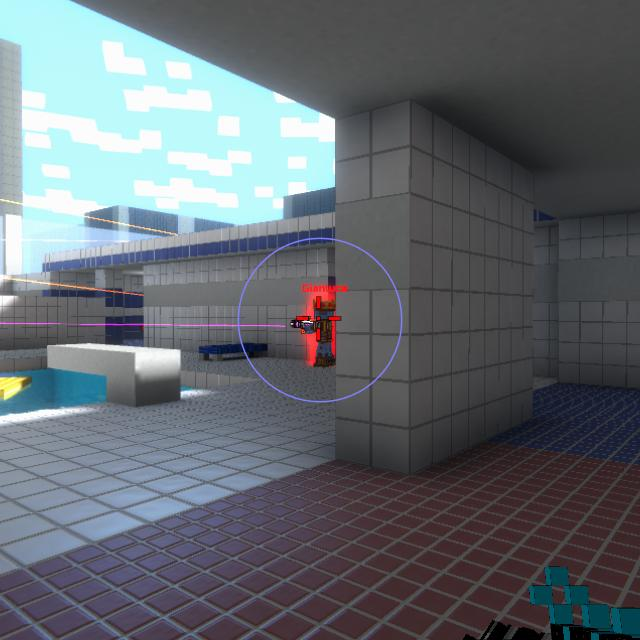Enemy: (303, 301, 333, 369)
